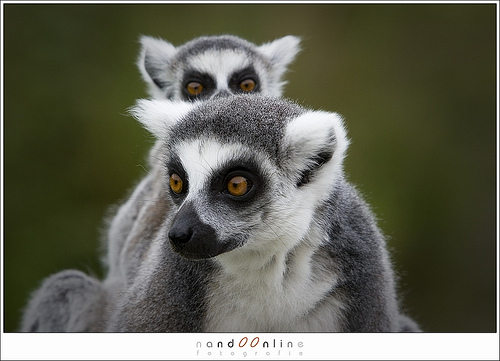cat: (17, 31, 306, 334), (109, 94, 402, 334)
